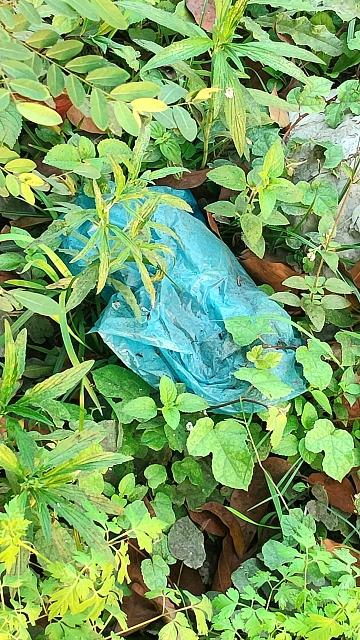polythene: (46, 181, 324, 405)
